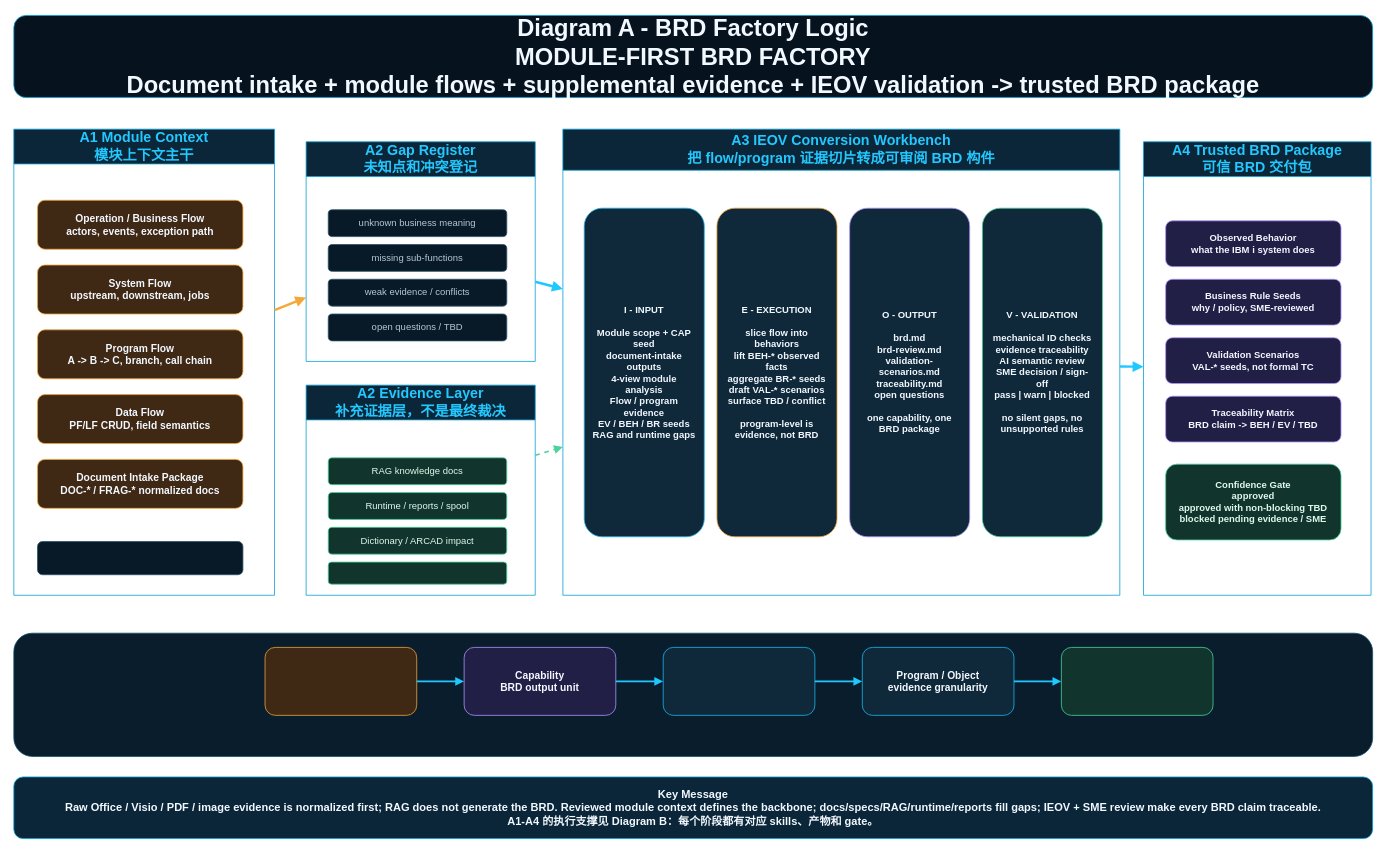
This 1386x852 diagram has some shape labels left out. The centre of each missing label's shape, as x and y in pixels:
"Claim IDs EV / BEH / BR / TBD" belongs at point 1137,681.
"Flow transaction slice" belongs at point 738,681.
"Module is the understanding boundary" belongs at point 140,558.
"Module understanding boundary" belongs at point 340,681.
"source snippets, screens, samples" belongs at point 417,572.
